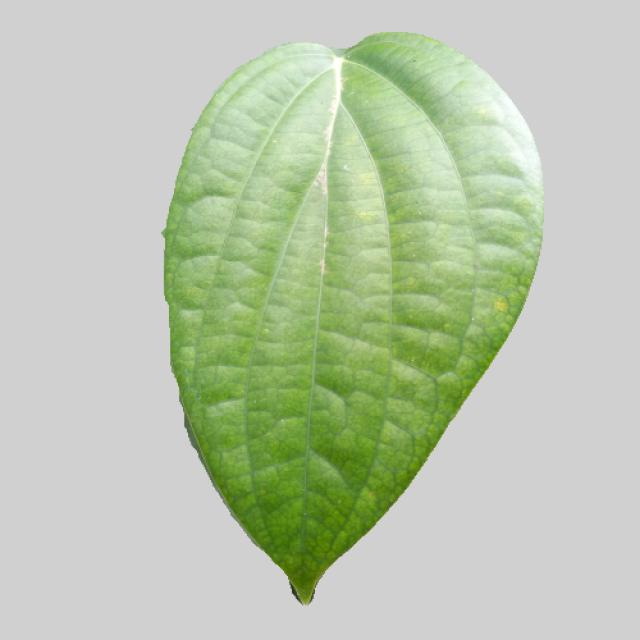healthy: (149, 25, 551, 611)
